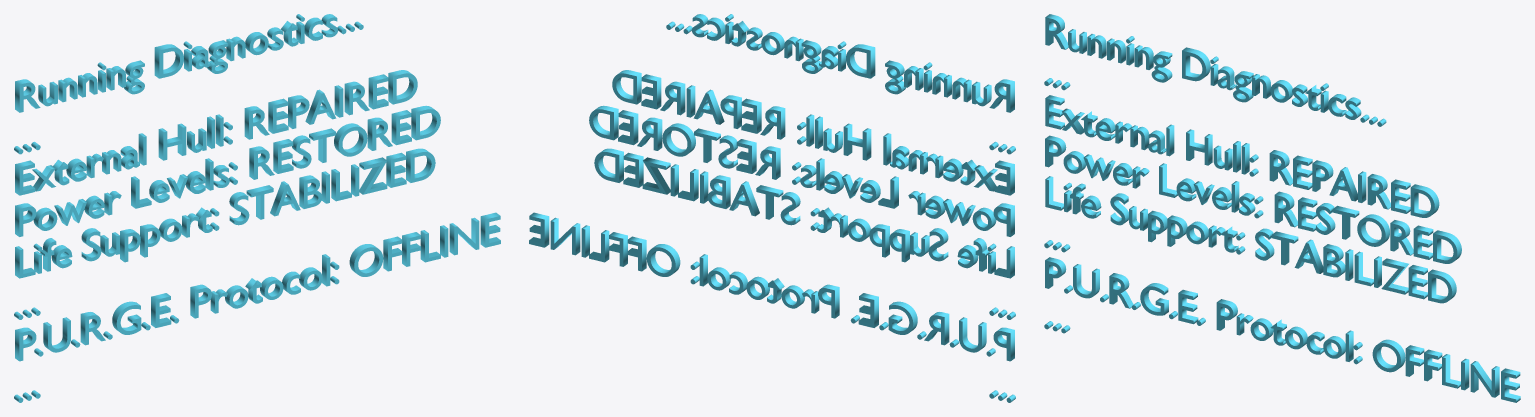
The model's file is console_ending_001.fbx.
3 views of the same model, side by side, from view 1: azimuth 30°, elevation 25°; view 2: azimuth 150°, elevation 25°; view 3: azimuth 330°, elevation 25° (orthographic). The views are drawn at different scales.
Visible parts, largest first — view 1: Txt_Test_01.051; view 2: Txt_Test_01.051; view 3: Txt_Test_01.051.
Part boxes in pixels (x1,y1,x2,y2): Txt_Test_01.051: (14,14,500,402); Txt_Test_01.051: (529,14,1015,402); Txt_Test_01.051: (1044,14,1520,402).
Size of the model in its own units: 1.64 by 1.04 by 0.027.
